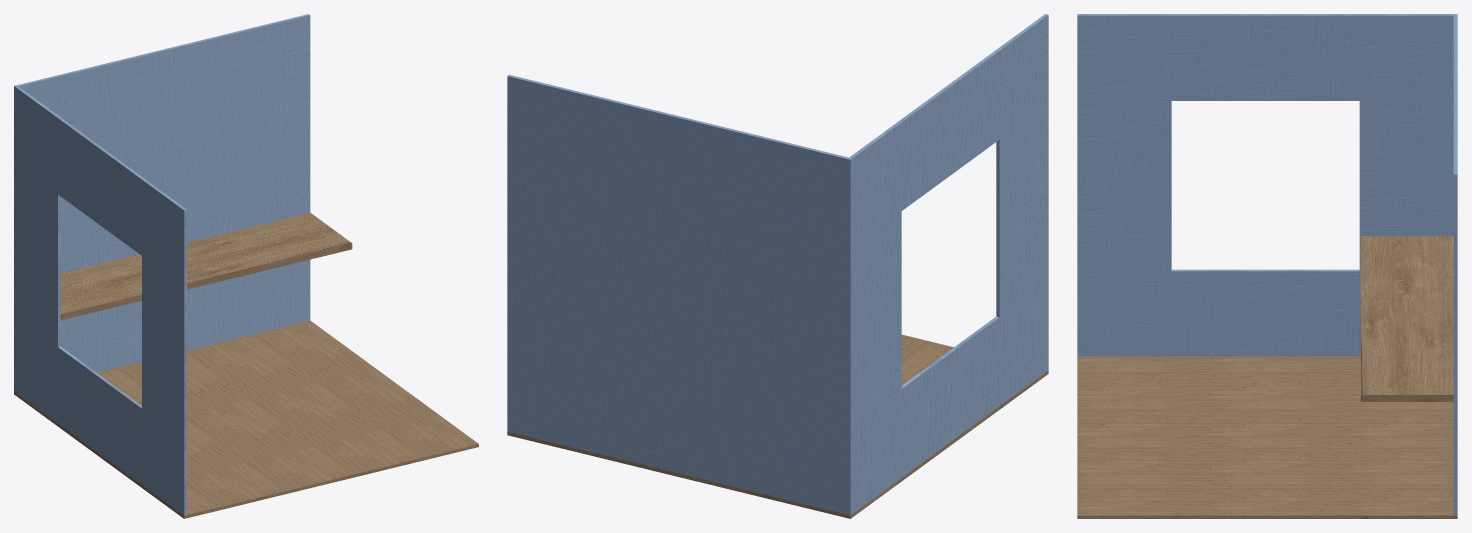
Rendered from room.glb.
3 views of the same model, side by side, from view 1: azimuth 30°, elevation 25°; view 2: azimuth 150°, elevation 25°; view 3: azimuth 270°, elevation 25° (orthographic). The views are drawn at different scales.
Parts seen in each view (by area): view 1: Cube.002, Cube.001, Cube, Cube.003; view 2: Cube.002, Cube.001, Cube; view 3: Cube.001, Cube, Cube.003, Cube.002.
Part boxes in pixels (<box>): Cube.002: <box>14,14,310,392</box>; Cube.001: <box>15,86,186,515</box>; Cube: <box>14,320,478,518</box>; Cube.003: <box>60,212,352,320</box>; Cube.002: <box>507,74,852,515</box>; Cube.001: <box>849,14,1048,513</box>; Cube: <box>507,334,1048,518</box>; Cube.001: <box>1077,14,1453,356</box>; Cube: <box>1077,356,1457,518</box>; Cube.003: <box>1360,236,1453,401</box>; Cube.002: <box>1453,14,1457,515</box>.
Size of the model in its own units: 10 by 10 by 10.
Materials: 2 (2 with a texture image).
